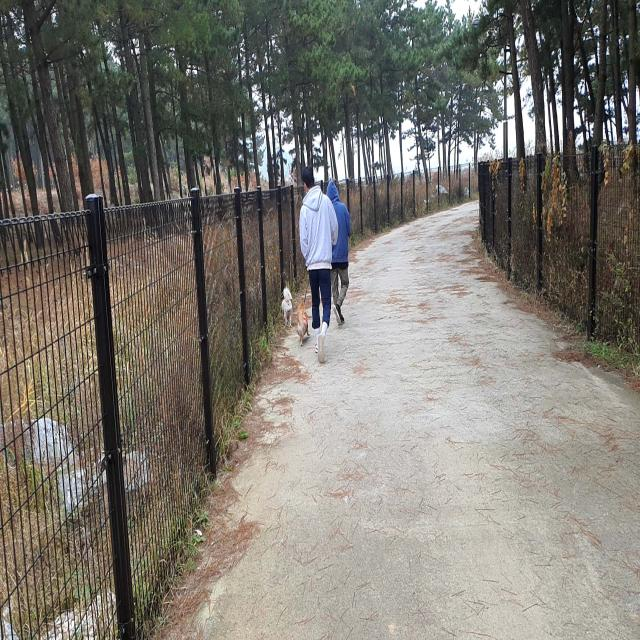Dog: (280, 288, 293, 327)
Leashed_Dog: (297, 250, 327, 347)
